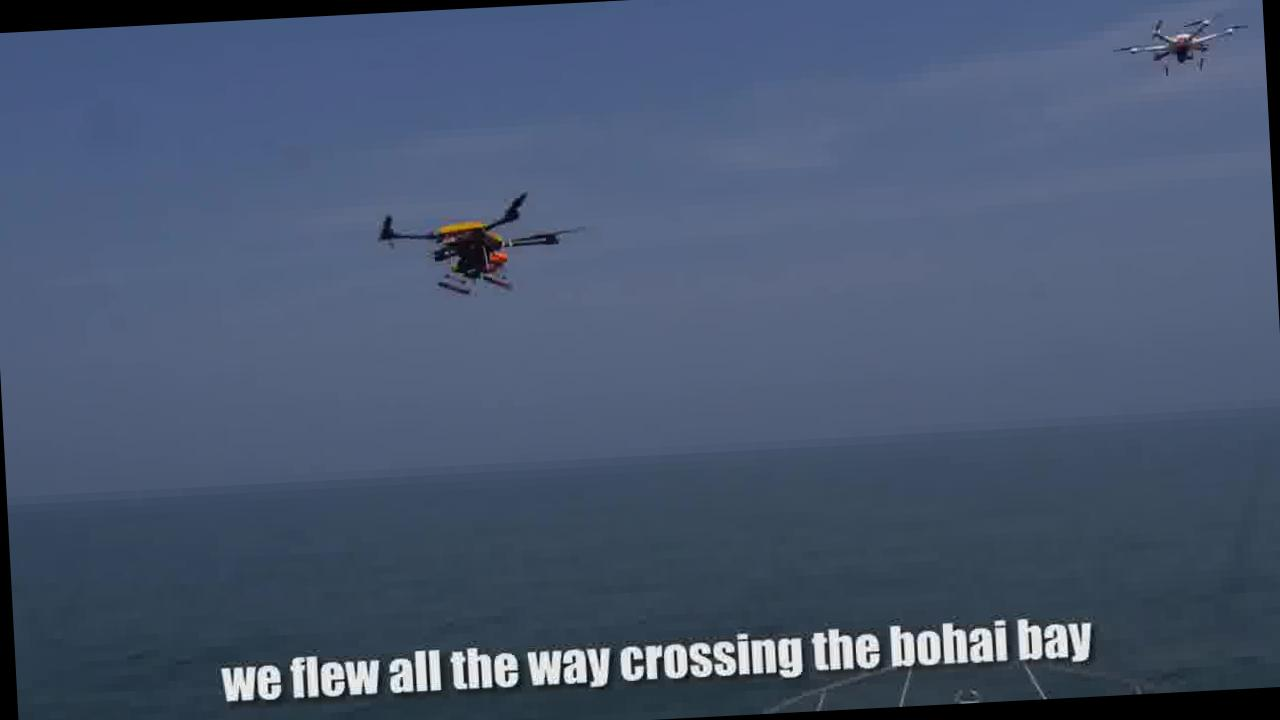drone: (369, 184, 584, 301), (1112, 5, 1250, 78)
